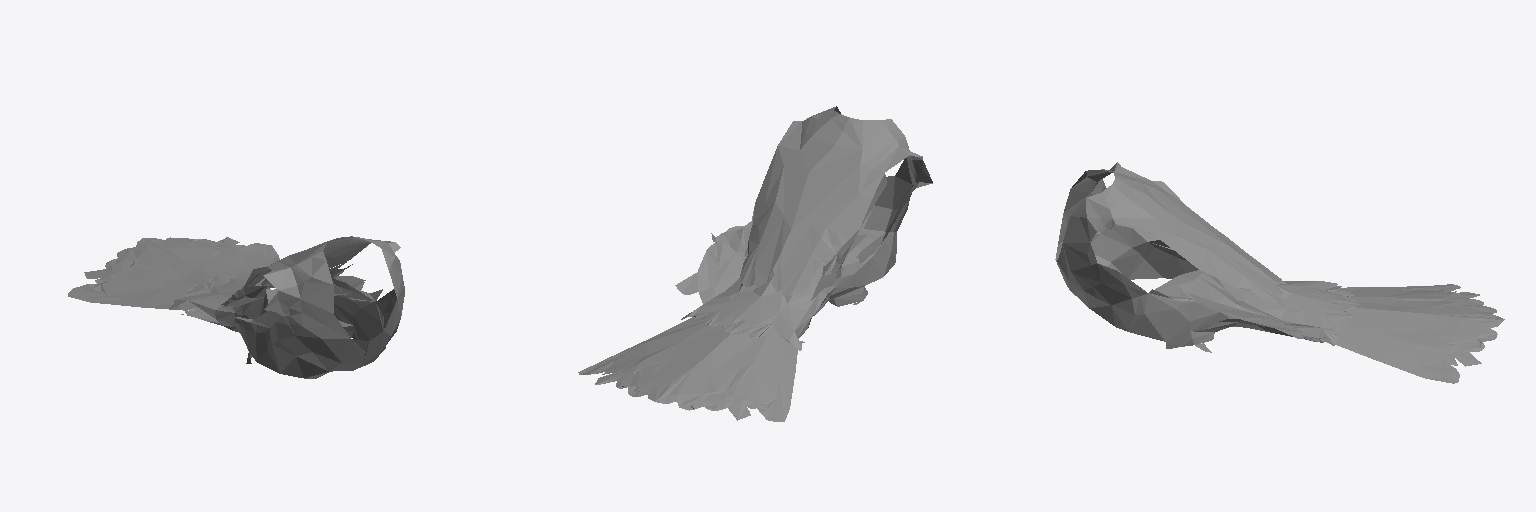
The model's file is cuerpo.obj.
3 views of the same model, side by side, from view 1: azimuth 30°, elevation 25°; view 2: azimuth 150°, elevation 25°; view 3: azimuth 270°, elevation 25° (orthographic).
Parts seen in each view (by area): view 1: Cuerpo; view 2: Cuerpo; view 3: Cuerpo.
Part boxes in pixels (x1,y1,x2,y2): Cuerpo: (68,236,404,378); Cuerpo: (578,106,932,421); Cuerpo: (1055,162,1504,383).
Size of the model in its own units: 9.28 by 6.75 by 17.58.